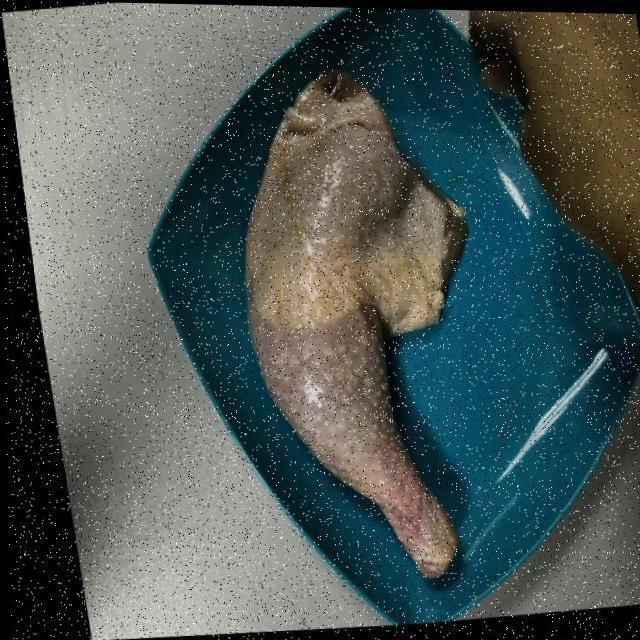quater: (262, 62, 466, 570)
